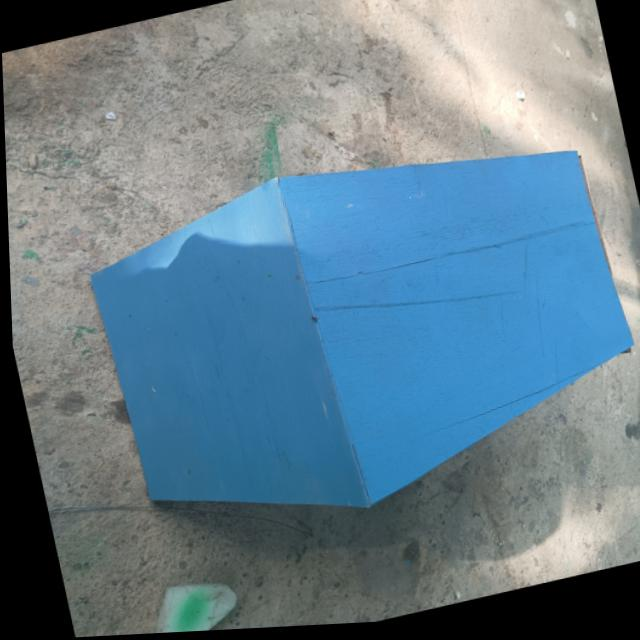blue_box: (59, 108, 640, 563)
